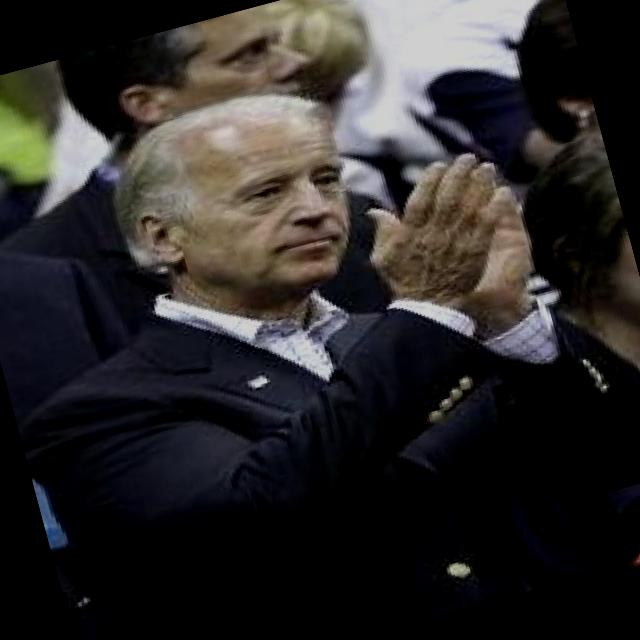no_vest: (0, 205, 639, 640)
